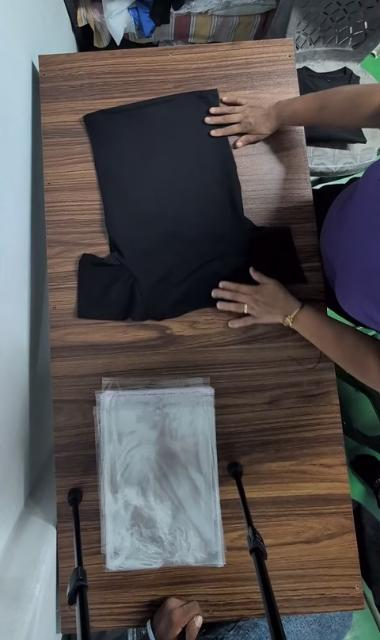new-garment: (78, 90, 304, 320)
